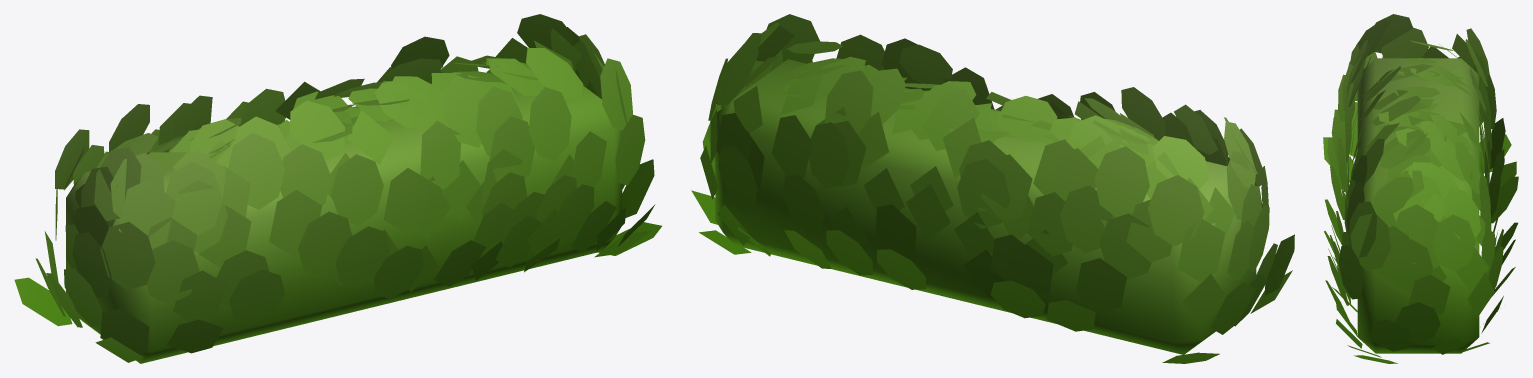
File: bushescubegreen.glb
3 renders of one model, left to right at view 1: azimuth 30°, elevation 25°; view 2: azimuth 150°, elevation 25°; view 3: azimuth 270°, elevation 25°, orthographic. The views are drawn at different scales.
Visible parts, largest first — view 1: bushescubegreen; view 2: bushescubegreen; view 3: bushescubegreen.
Part boxes in pixels (box(x1,y1,x2,y2)): bushescubegreen: box(14, 14, 661, 363); bushescubegreen: box(691, 14, 1294, 363); bushescubegreen: box(1323, 14, 1518, 363).
Size of the model in its own units: 5 by 1.79 by 1.88.
Materials: 1 (1 with a texture image).
